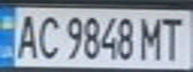4: (100, 14, 121, 61)
8: (115, 14, 139, 61), (81, 12, 103, 61)
9: (60, 12, 84, 61)
A: (12, 11, 42, 61)
C: (33, 11, 60, 61)
M: (136, 14, 166, 61)
T: (157, 14, 190, 61)
